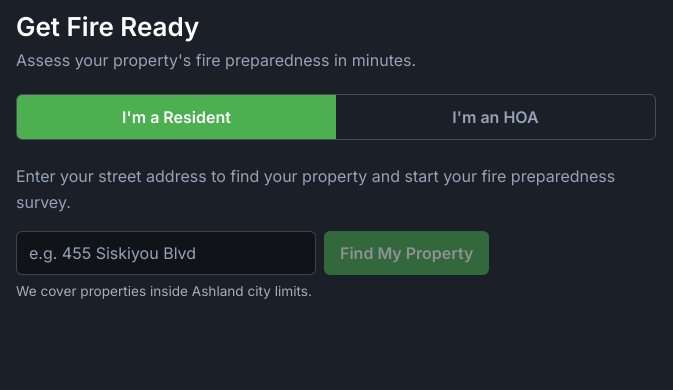
Test: PreparePage › shows error message when resolveParcel fails
Type "570 Siskiyou" into the field named "Your Ashland property address" at (166,253), box [16,231,316,275]
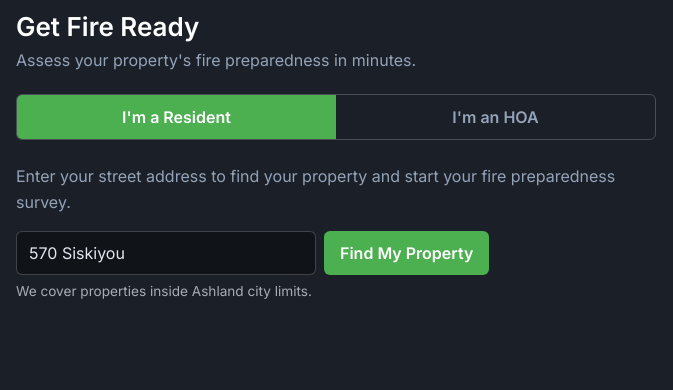
Click the button "Find My Property" at (407,253), box [324,231,489,275]
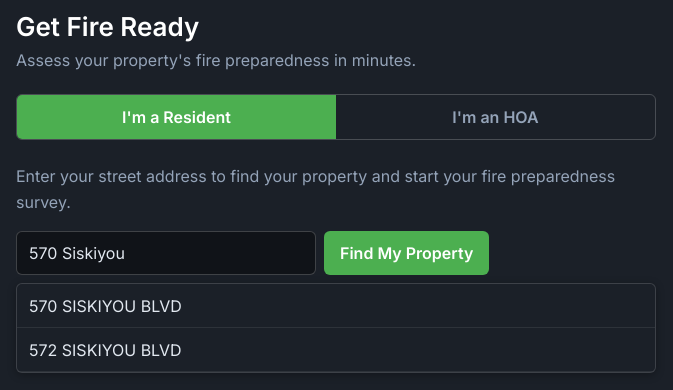
Click the button "570 SISKIYOU BLVD" at (105,306), box [17,284,655,328]
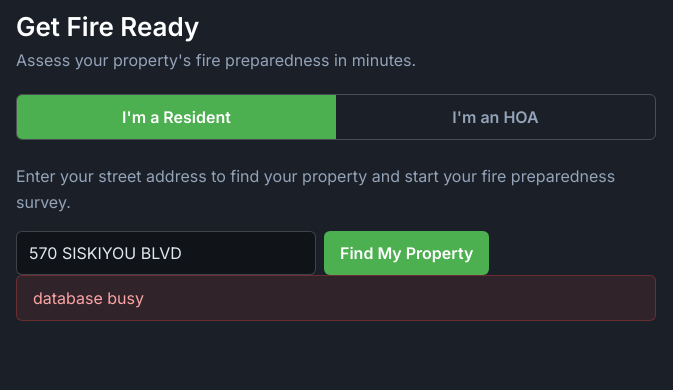
Now the message reads "database busy", box [33,288,144,308]
